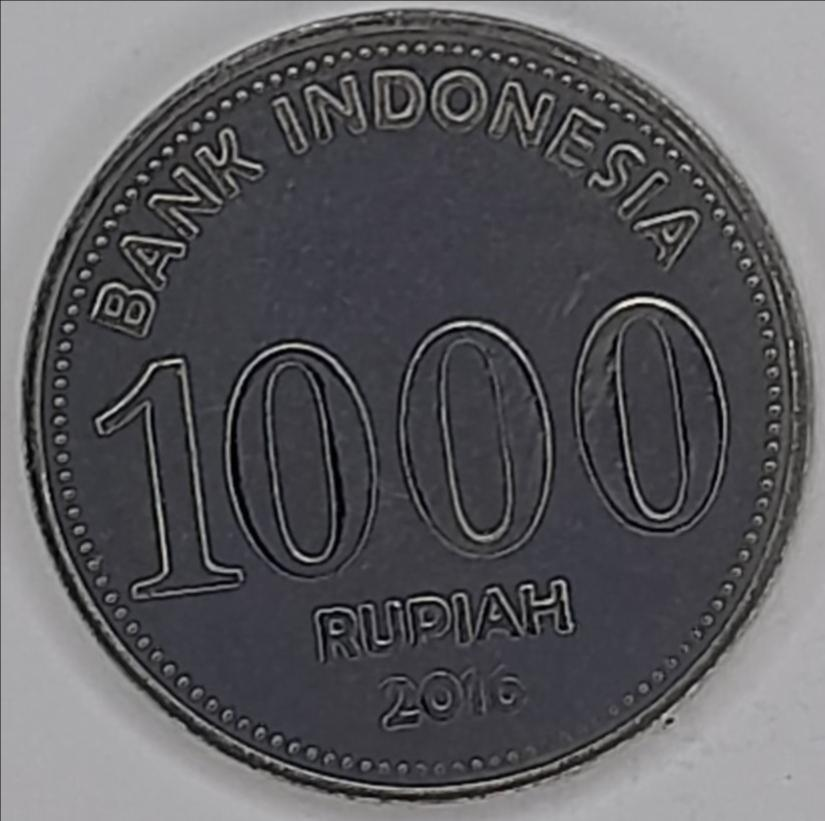coin_1000_e2016: (14, 16, 814, 821)
